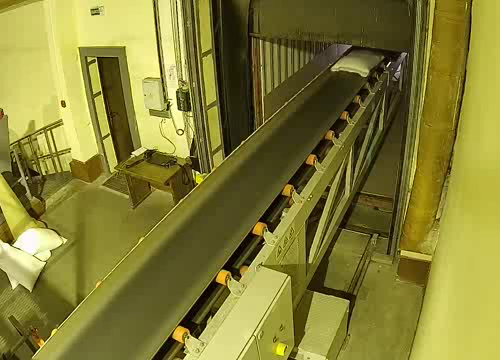bag: (329, 46, 386, 80)
